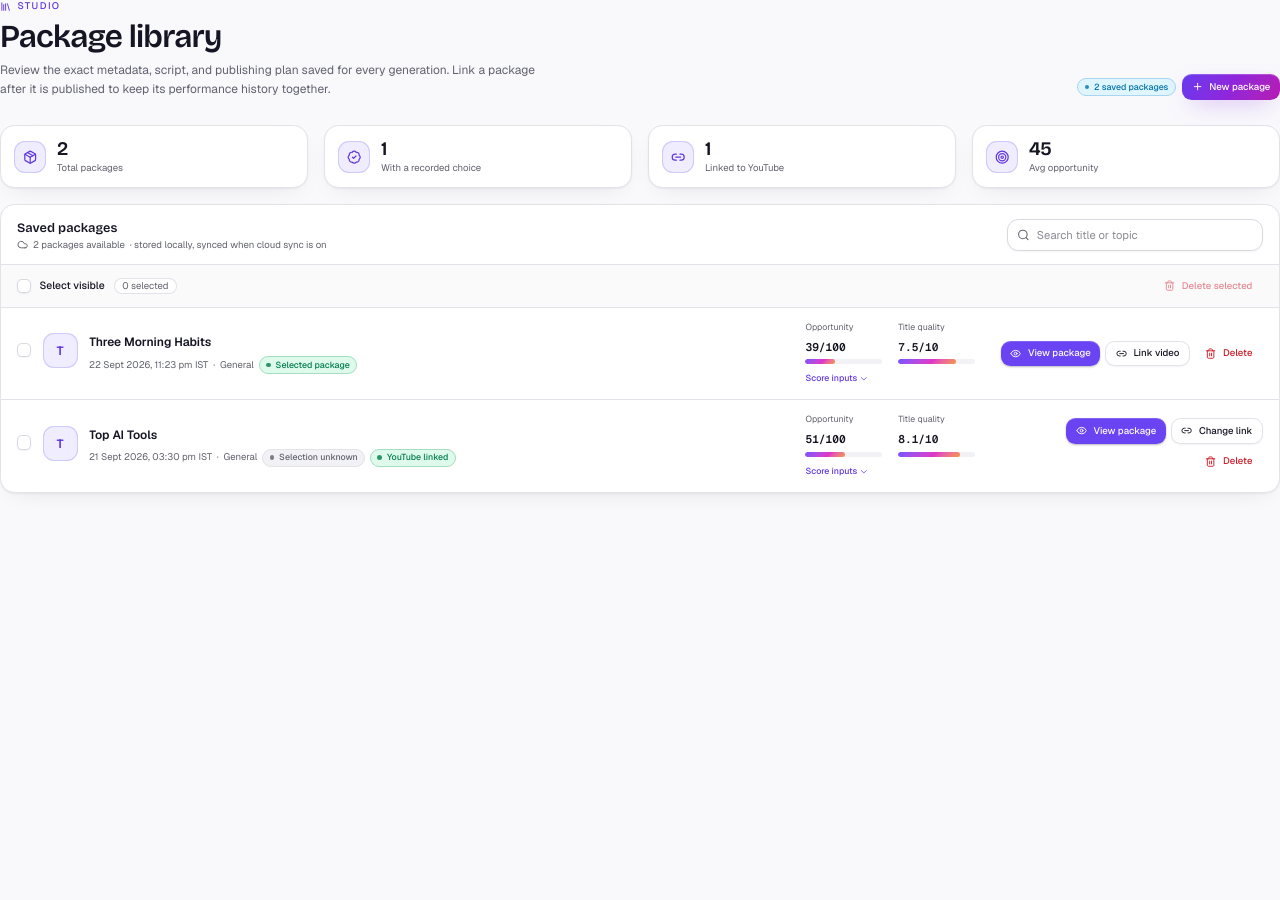
Test: HistoryPage › confirms before deleting and warns about synced devices
expect the button "Three Morning Habits" is shown: met, box [89,333,211,351]
Click the button with aria-label "Delete Three Morning Habits" at (1229, 354), box [1195,341,1263,366]
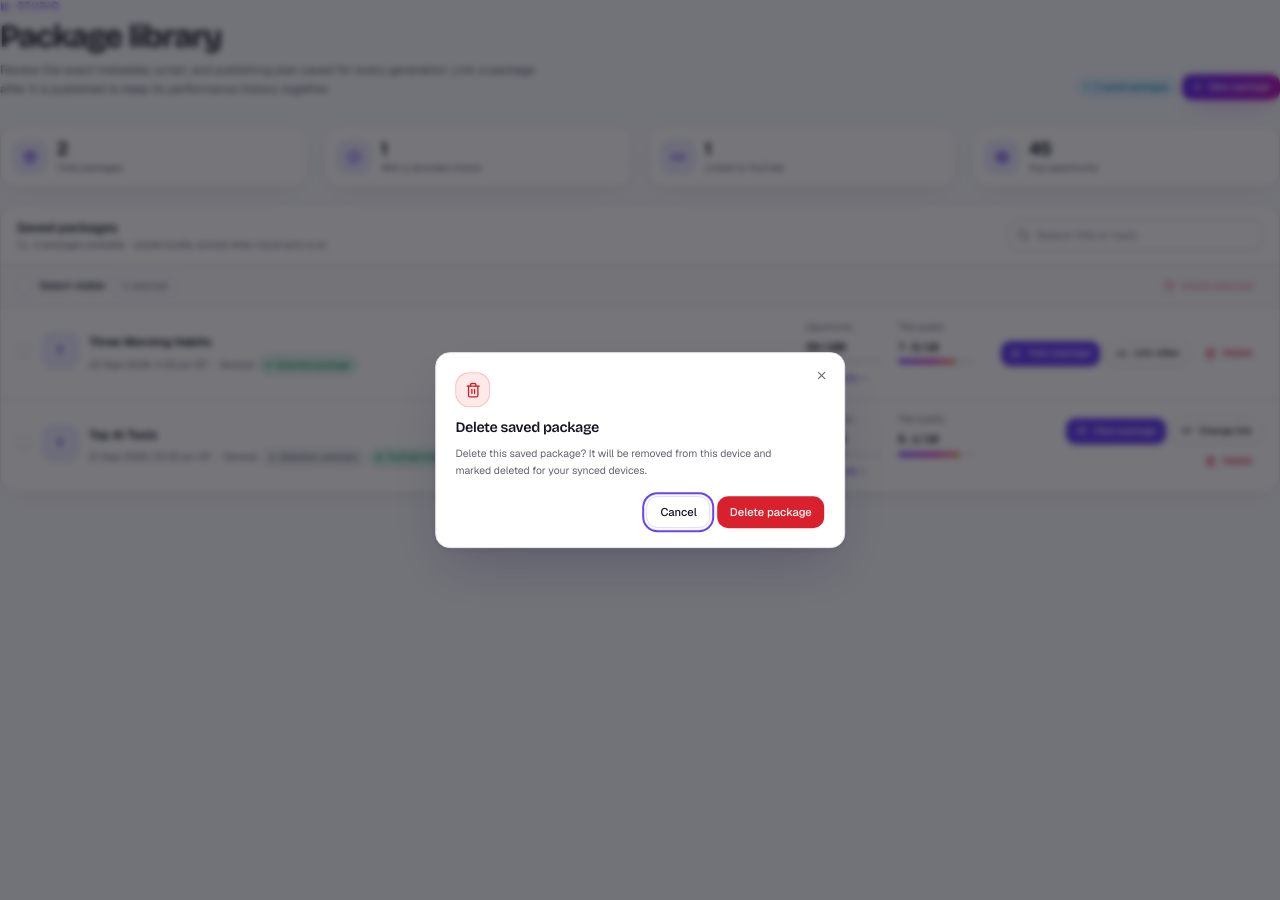
expect the text "marked deleted for your synced devices" is shown: met, box [455,447,772,477]
